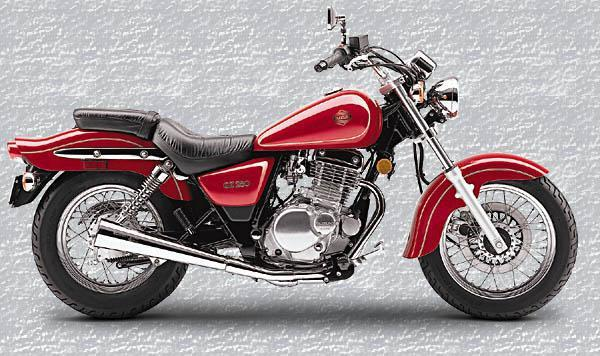motorcycle: (2, 1, 582, 338)
